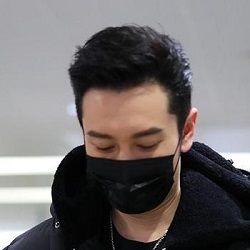mask: (80, 146, 182, 213)
